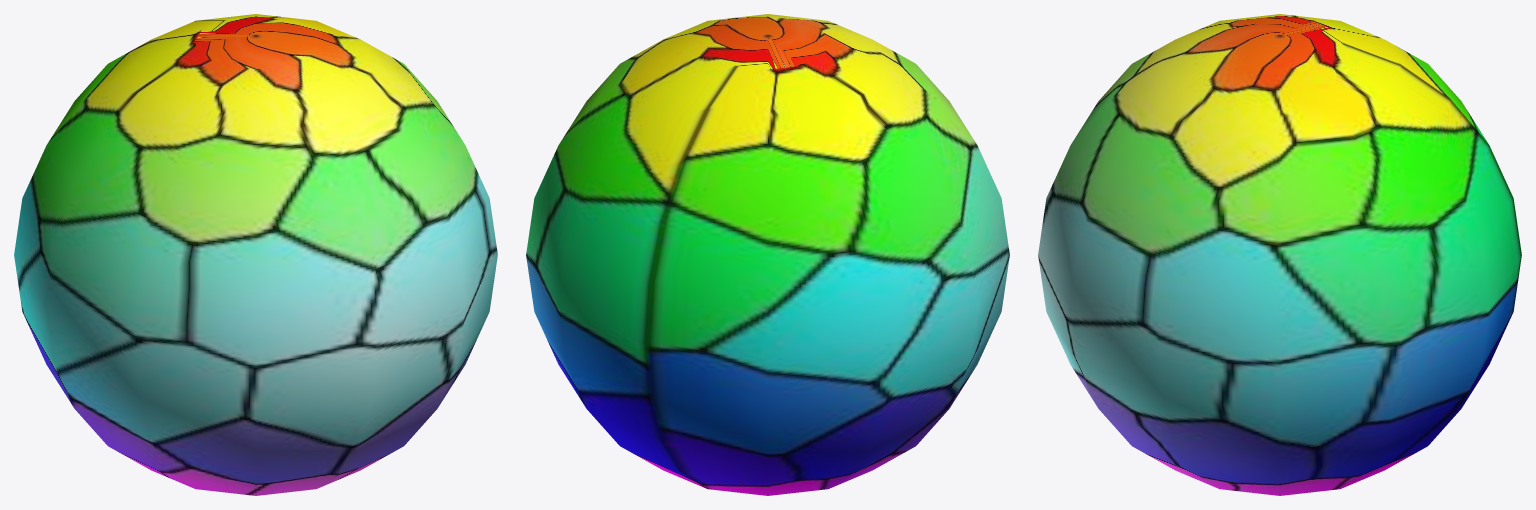
The model's file is color.obj.
3 renders of one model, left to right at view 1: azimuth 30°, elevation 25°; view 2: azimuth 150°, elevation 25°; view 3: azimuth 270°, elevation 25°, orthographic.
Size of the model in its own units: 0.5 by 0.5 by 0.5.
1 material, 1 textured.
